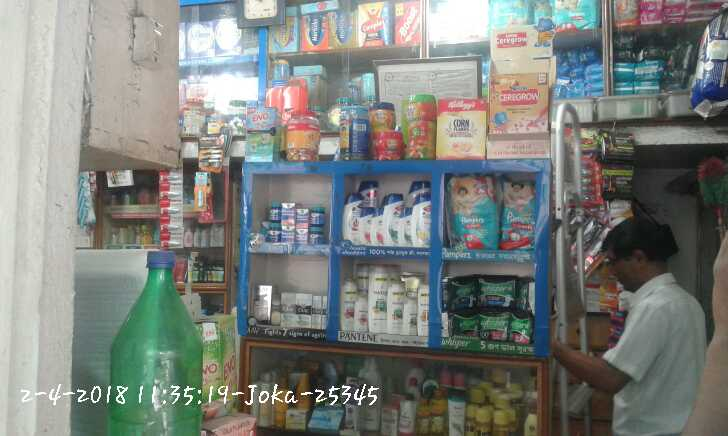vicks: (259, 201, 323, 245)
